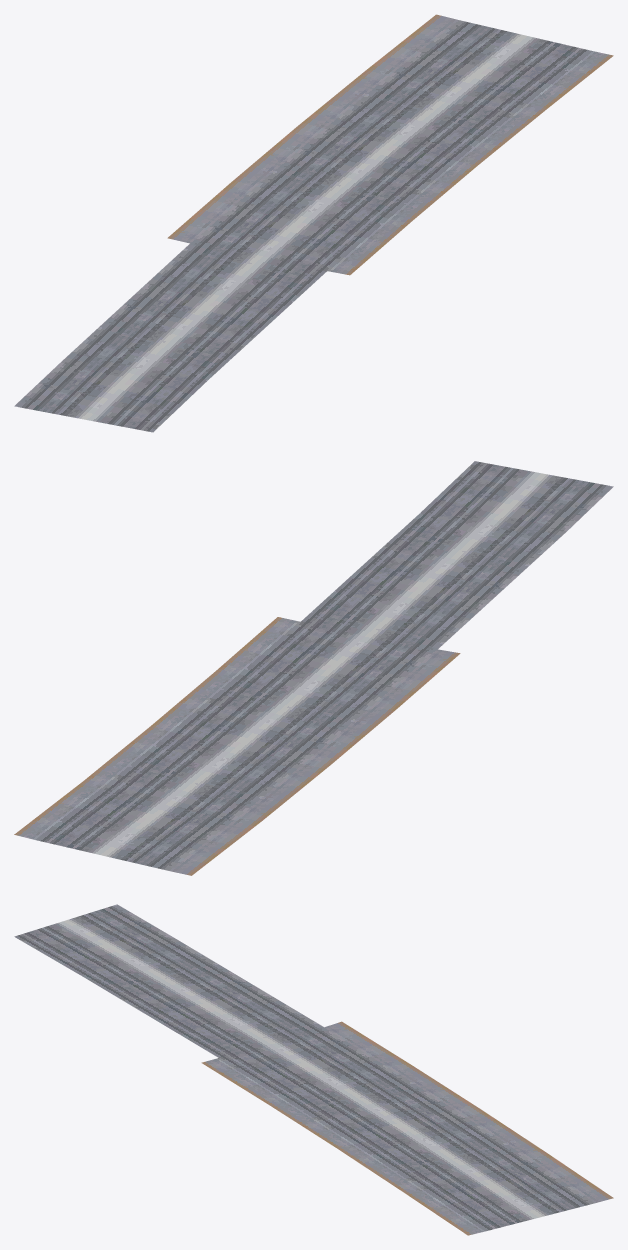
Rendered from lodaswedge16.obj.
3 views of the same model, one above another, from view 1: azimuth 30°, elevation 25°; view 2: azimuth 210°, elevation 25°; view 3: azimuth 270°, elevation 25° (orthographic). The views are drawn at different scales.
Visible parts, largest first — view 1: lodasWedge16; view 2: lodasWedge16; view 3: lodasWedge16.
Part boxes in pixels (bbox=[...]): lodasWedge16: bbox=[14, 14, 613, 432]; lodasWedge16: bbox=[14, 461, 613, 875]; lodasWedge16: bbox=[14, 904, 613, 1235].
Bounding box in the file's own units: 184 × 0.3523 × 141.
1 material, 1 textured.
